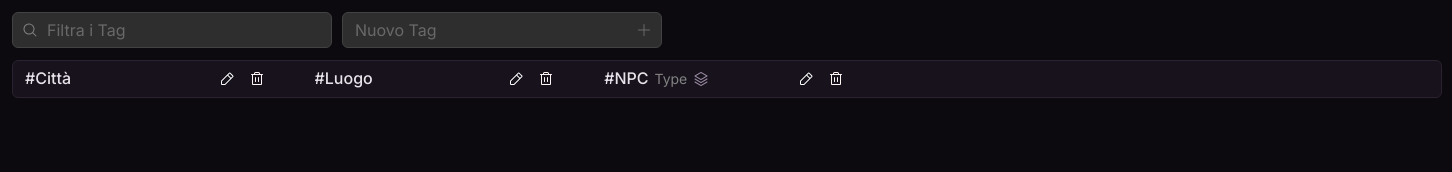
Test case: AllTagsList › renaming a Tag › keeps the field open with the reason when the name is refused
Click the button named "Rinomina il Tag Luogo".
click(516, 79)  # box [502,65,530,93]
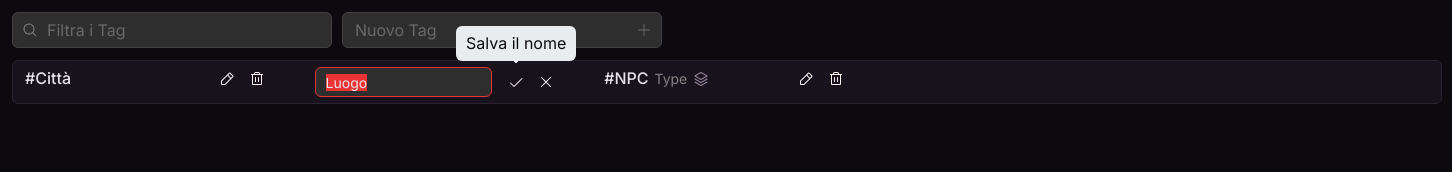
Replace the text in the field named "Nuovo nome per Luogo" with "NPC" at (403, 82), box [315,67,492,97]
Then press Enter
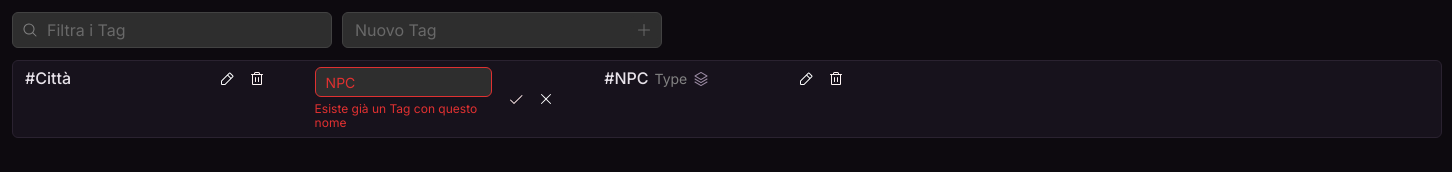
expect the text "Esiste già un Tag con questo nome" is shown: met, box [315,102,492,131]
